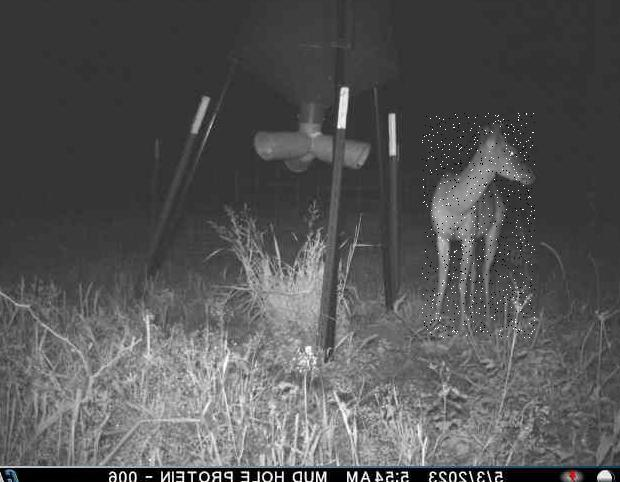Deer: (422, 113, 535, 338)
